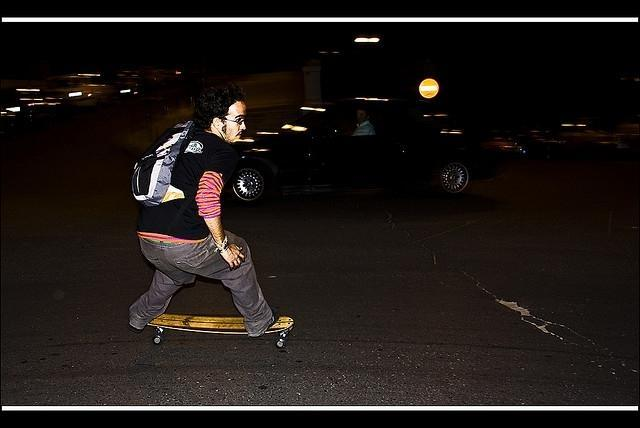car: (232, 80, 534, 205), (20, 74, 103, 111), (0, 96, 34, 130), (118, 78, 160, 100), (146, 66, 187, 88)
